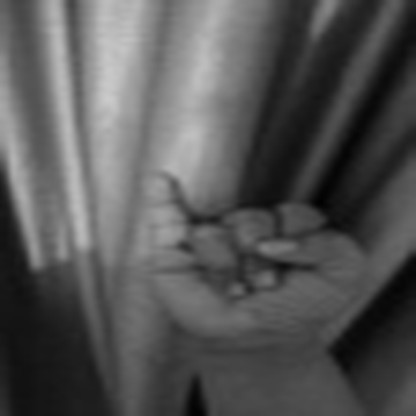i: (145, 165, 367, 343)
